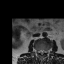CCS_normal: (41, 48, 42, 56)
LFS_normal: (44, 49, 46, 54)
LLS_normal: (43, 49, 44, 54)
RFS_normal: (37, 48, 39, 54)
RLS_normal: (39, 49, 41, 54)
